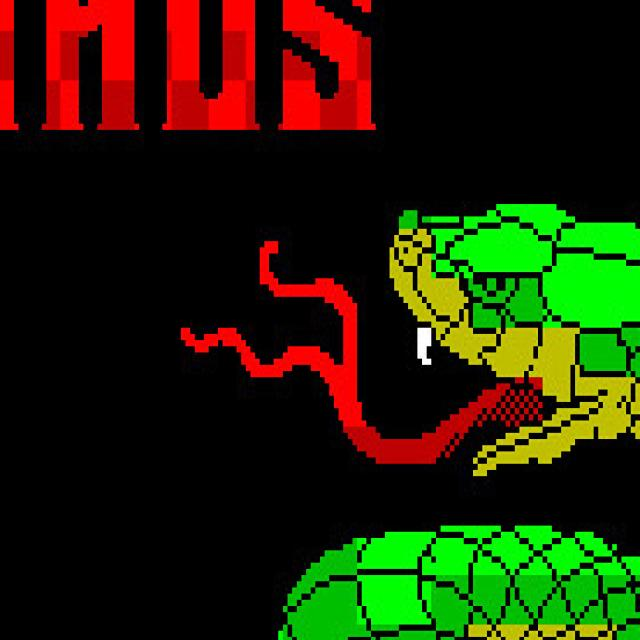Snake: (95, 198, 640, 640)
